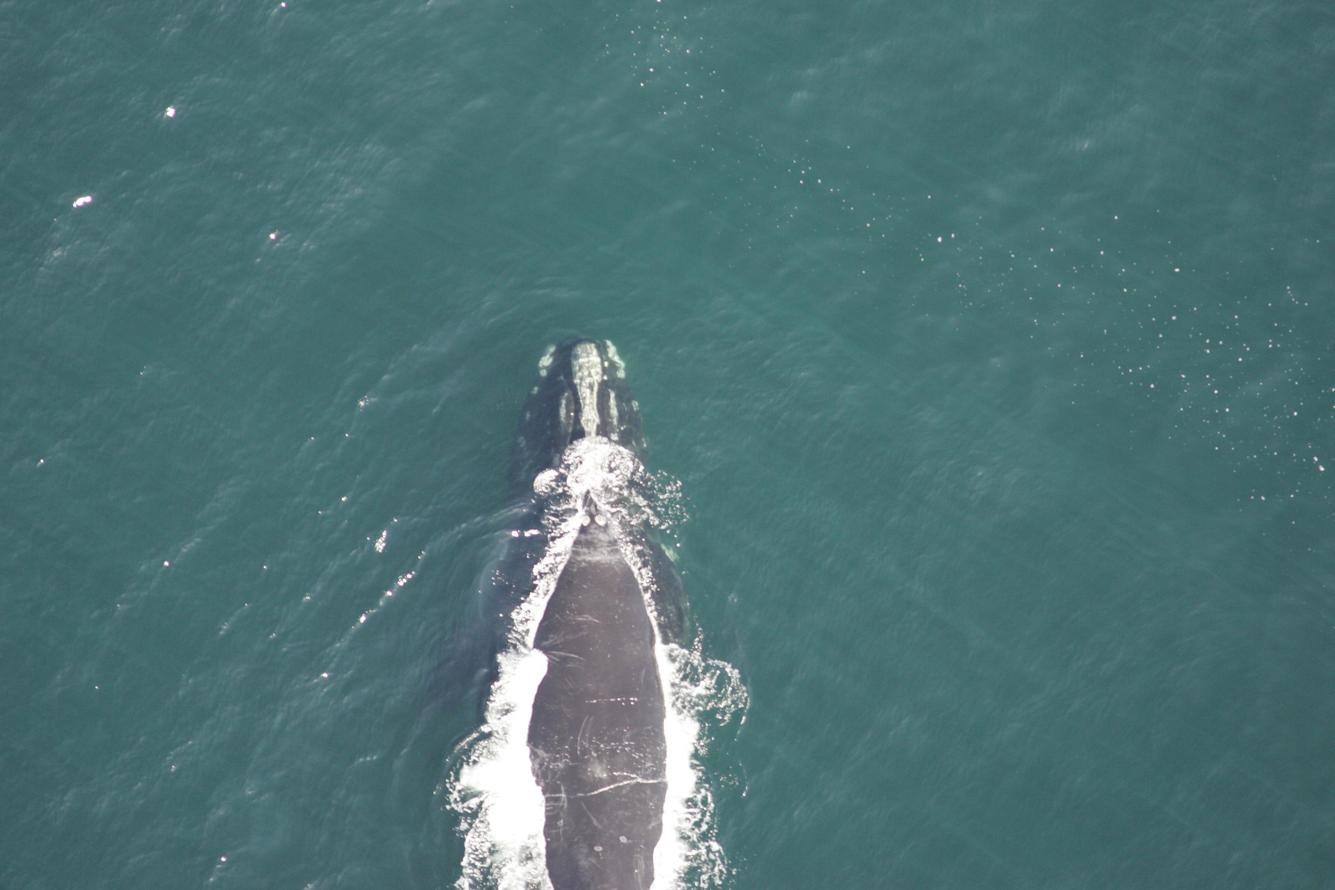whale: (417, 318, 768, 890)
